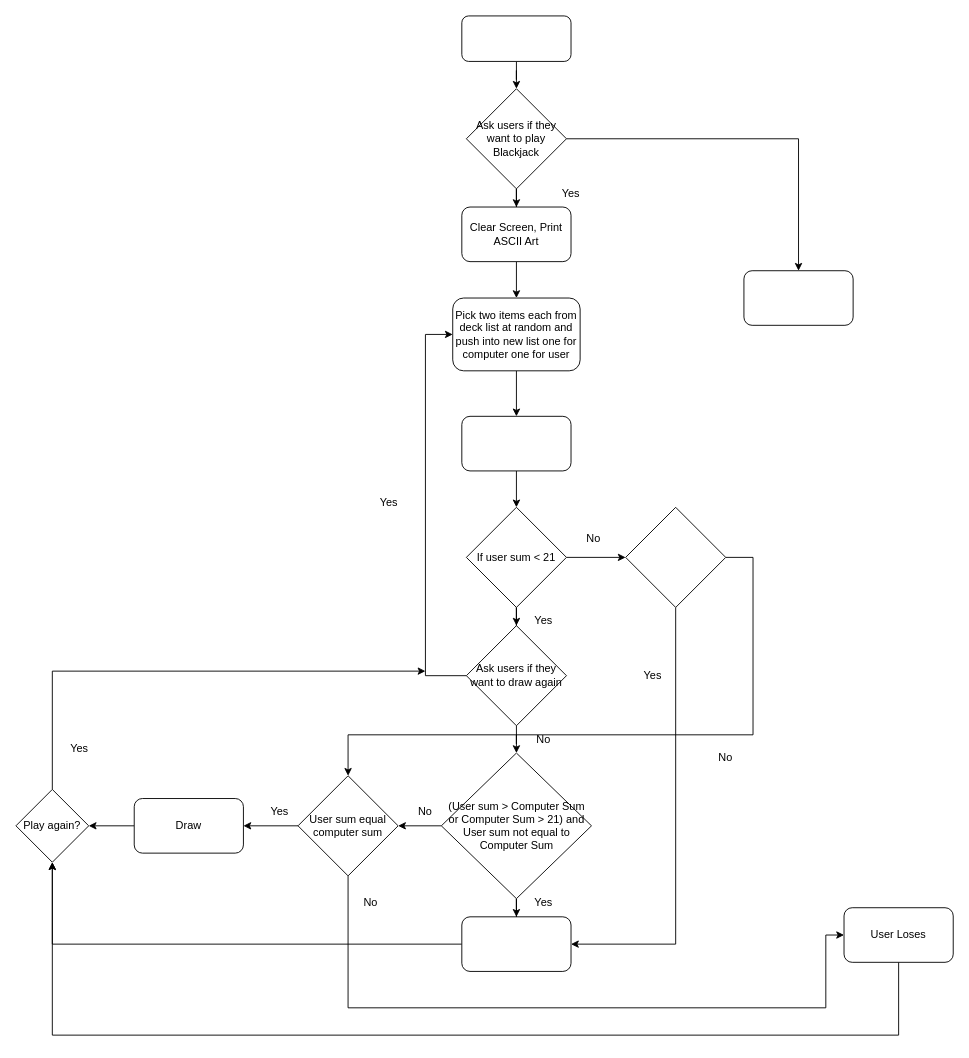
Some shapes in this 969 by 1058 pixel diagram are drawn without their labels. Each missing label, with the box of its shape:
Exit: (743, 270, 853, 325)
Print users entire list and total, print computers first item only: (461, 415, 571, 471)
Start: (461, 15, 571, 61)
User Sum = 21 and User sum not equal computer Sum: (625, 506, 726, 607)
User Wins: (461, 916, 571, 971)
